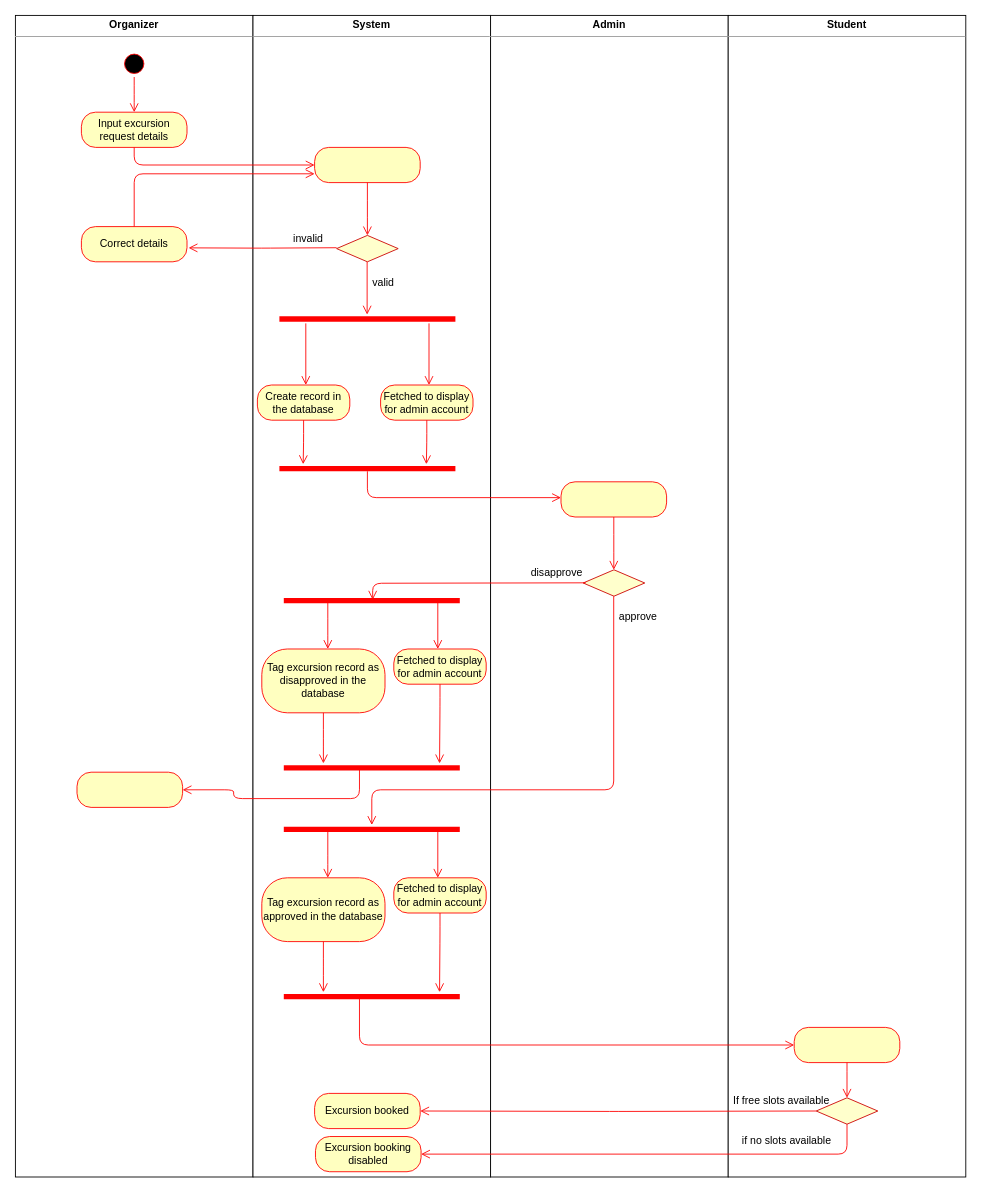
This 981x1192 diagram has some shape labels left out. The shapes that lost their labels are listed below. From the top down, each one's centre as x and y in pixels, then its label:
At pixel 367 165: "Validate excursion details".
At pixel 613 499: "Review excursion request".
At pixel 129 789: "View record and take action".
At pixel 846 1045: "Book an excursion".
